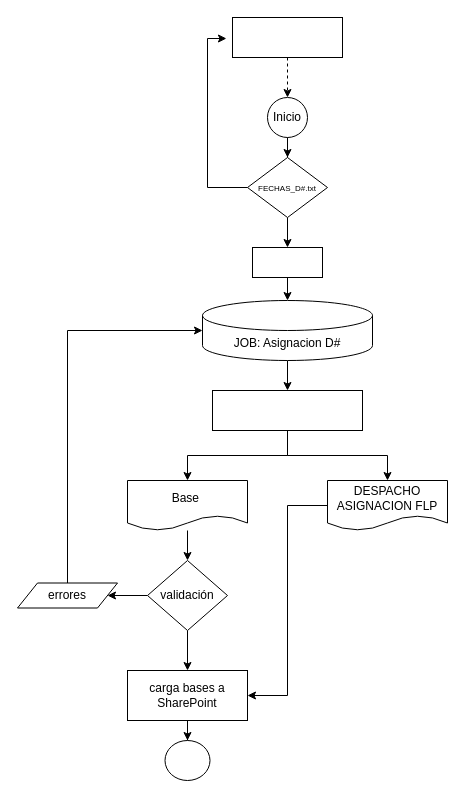
The diagram is 465 pixels wide and 798 high, and some of its shapes have lost their labels. Each missing label, with the centre of its shape:
"asignacion_correctiva.bat" goes at pixel 287 410.
"Asignación Corretiva" goes at pixel 287 37.
"correo" goes at pixel 287 262.
"FIN" goes at pixel 187 760.
